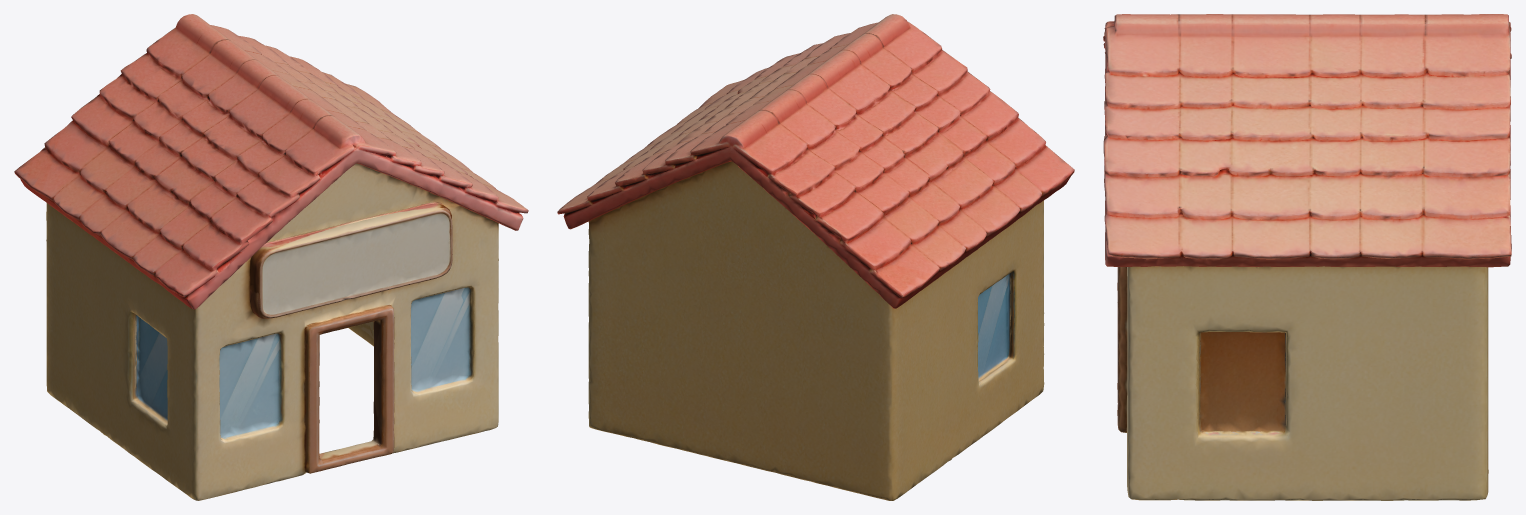
Rendered from P_ShopShellSmall_h1000.fbx.
The picture shows the model from 3 angles, left to right: view 1: azimuth 30°, elevation 25°; view 2: azimuth 150°, elevation 25°; view 3: azimuth 270°, elevation 25°; orthographic projection. The views are drawn at different scales.
Visible parts, largest first — view 1: texture_mapping; view 2: texture_mapping; view 3: texture_mapping.
Part boxes in pixels (x1,y1,x2,y2): texture_mapping: (14,14,528,500); texture_mapping: (557,14,1074,500); texture_mapping: (1103,14,1511,500).
Size of the model in its own units: 1 by 0.8574 by 0.9214.
Materials: 1 (1 with a texture image).
